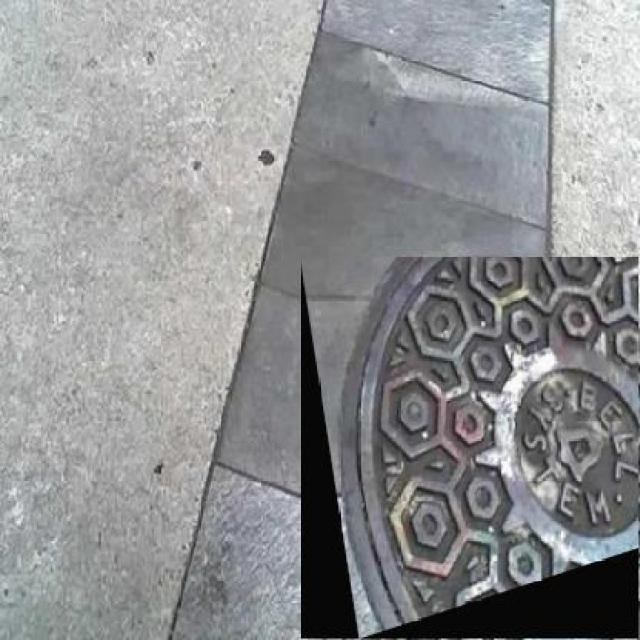Manhole: (300, 258, 638, 640)
